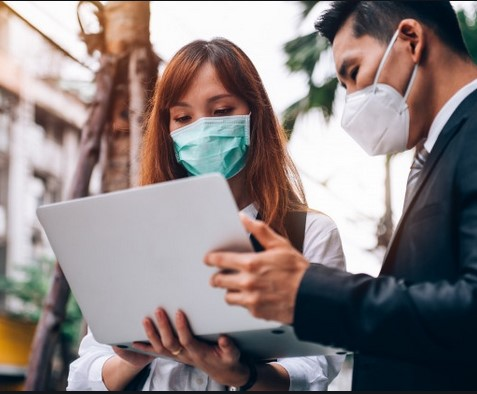face_with_mask: (324, 7, 462, 155), (152, 46, 282, 183)
